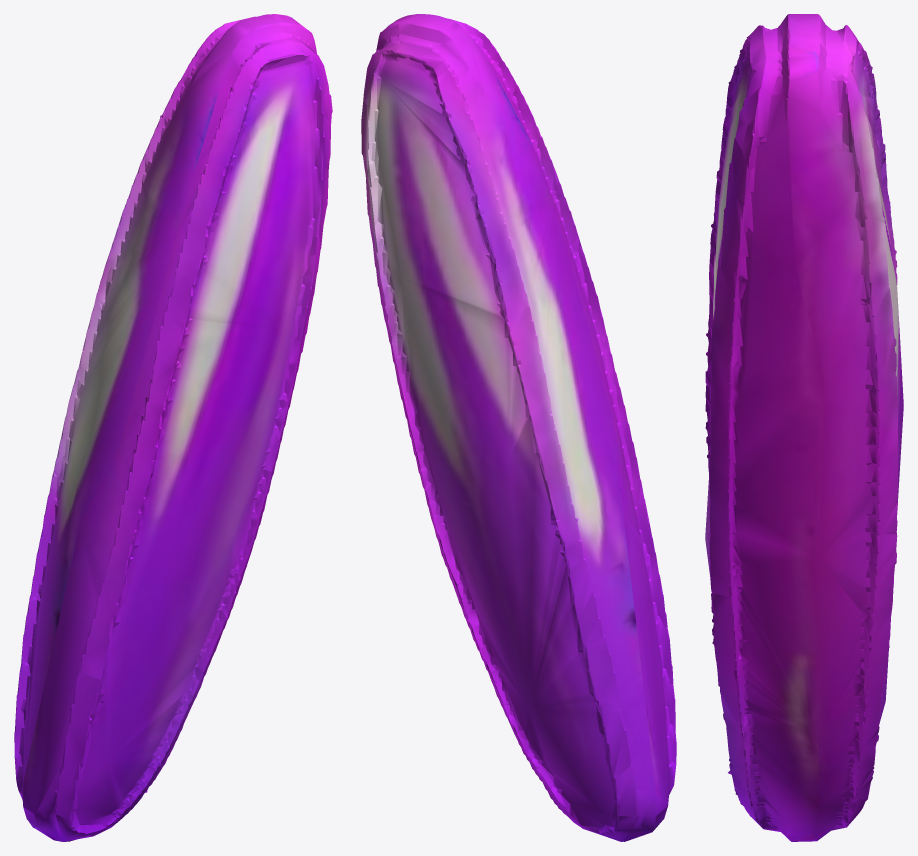
File: shine__companion__r1__p1__solo-attach__multi-1.glb
3 renders of one model, left to right at view 1: azimuth 30°, elevation 25°; view 2: azimuth 150°, elevation 25°; view 3: azimuth 270°, elevation 25°, orthographic. The views are drawn at different scales.
Visible parts, largest first — view 1: model; view 2: model; view 3: model.
Part boxes in pixels (bbox=[...]): model: bbox=[14, 14, 332, 841]; model: bbox=[361, 14, 676, 841]; model: bbox=[705, 14, 903, 841].
Bounding box in the file's own units: 0.1312 × 0.3413 × 0.0666.
Materials: 1 (1 with a texture image).
